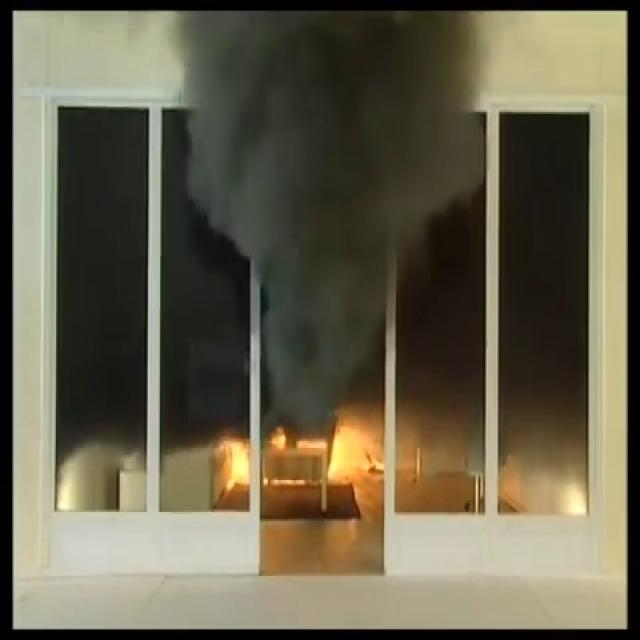Fire: (217, 419, 385, 546)
Smoke: (155, 19, 532, 362)
